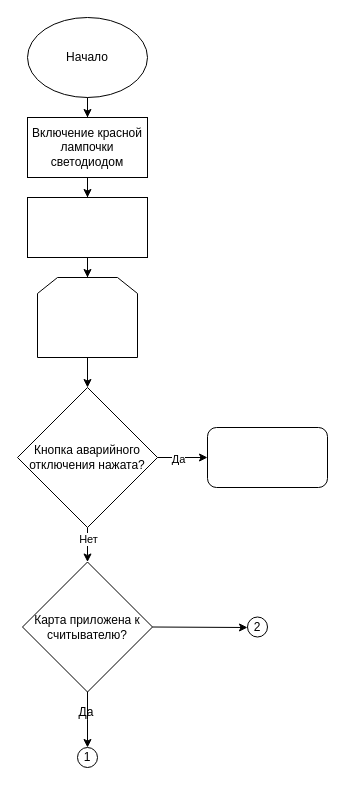
Some shapes in this 345 by 785 pixel diagram are drawn without their labels. Each missing label, with the centre of its shape:
Вывод на экран сообщения о готовности считывания карты: [87,227]
Конец: [267,457]
Начало цикла: [87,317]
